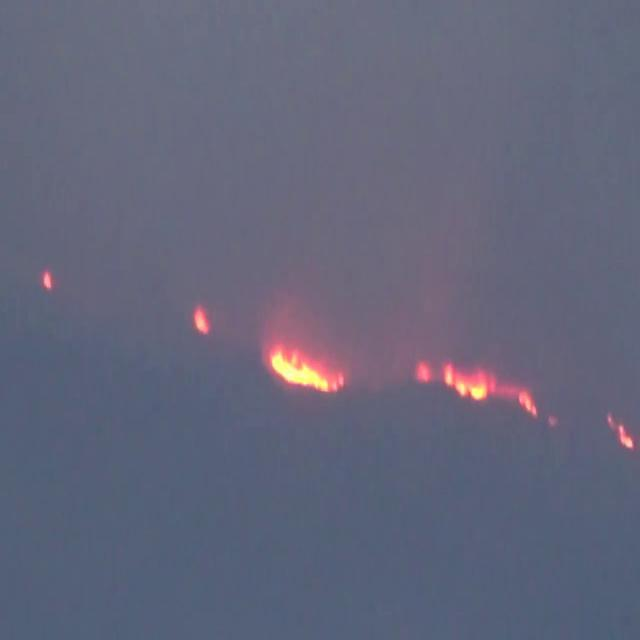Fire: (443, 368, 538, 415), (268, 351, 344, 396), (616, 422, 636, 449), (195, 310, 208, 332)
